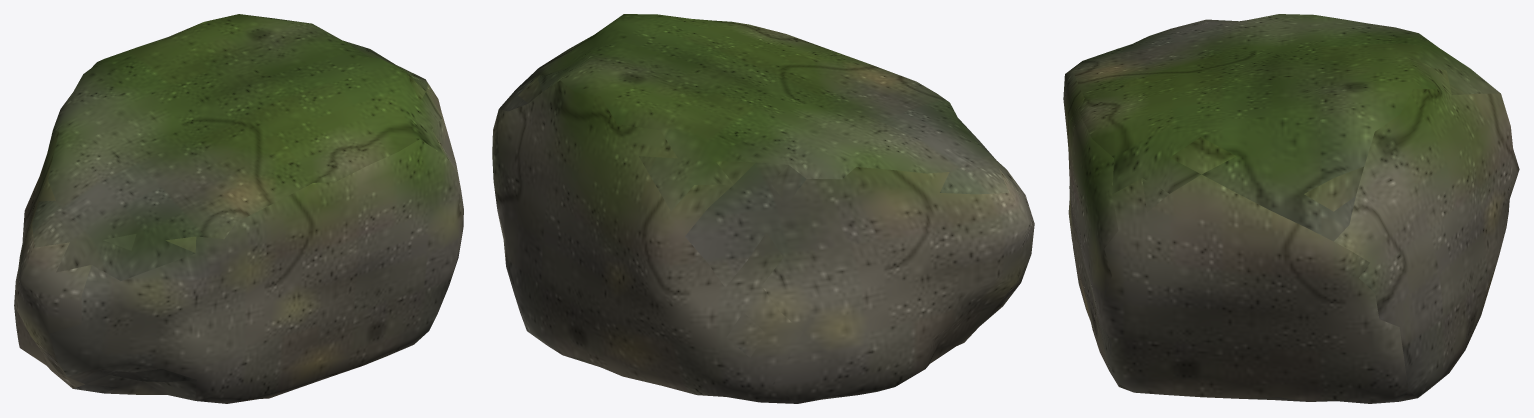
File: stone_chunk.glb
3 renders of one model, left to right at view 1: azimuth 30°, elevation 25°; view 2: azimuth 150°, elevation 25°; view 3: azimuth 270°, elevation 25°, orthographic. The views are drawn at different scales.
Parts seen in each view (by area): view 1: StoneChunkMesh; view 2: StoneChunkMesh; view 3: StoneChunkMesh.
Part boxes in pixels (x1,y1,x2,y2): StoneChunkMesh: [14, 14, 463, 403]; StoneChunkMesh: [492, 14, 1034, 403]; StoneChunkMesh: [1063, 14, 1519, 403].
Size of the model in its own units: 0.2517 by 0.1403 by 0.1964.
1 material, 1 textured.
